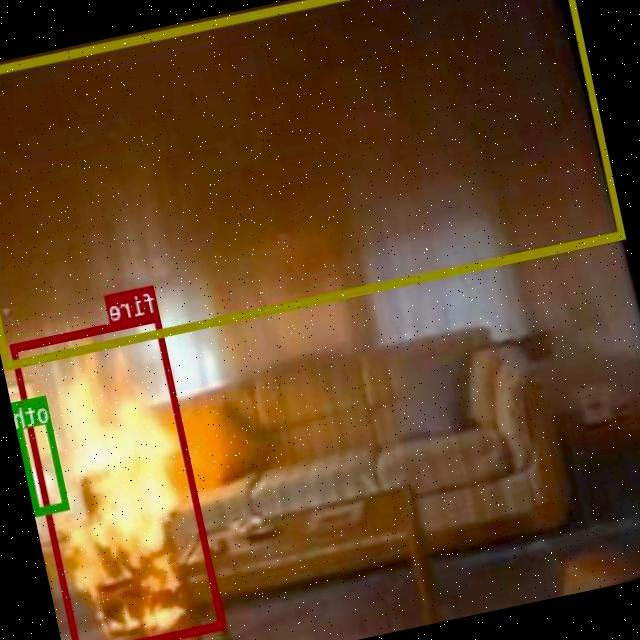fire: (10, 310, 227, 640)
smoke: (0, 0, 626, 367)
